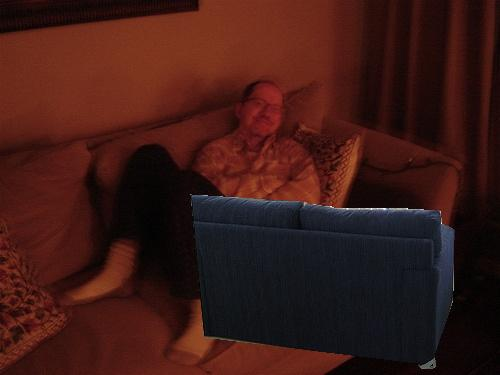tampered: (191, 195, 455, 369)
